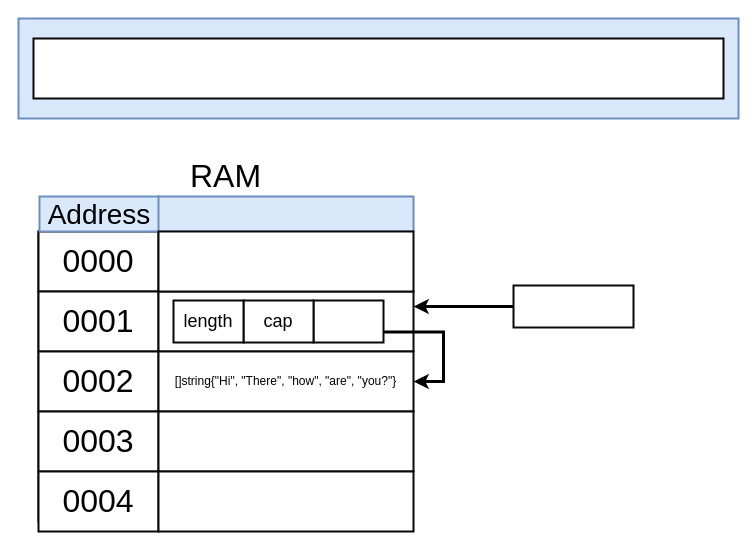
Some shapes in this 756 by 549 pixel diagram are drawn without their labels. The centre of each missing label's shape, as x and y in pixels:
mySlice: pixel 573 306
mySlice := []string{"Hi", "There", "how", "are", "you?"}: pixel 378 68
ptr to head: pixel 348 321
Value: pixel 285 213
